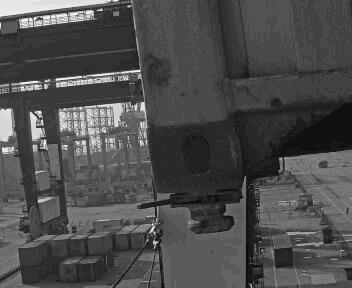twist_lock_1: (178, 167, 234, 206)
